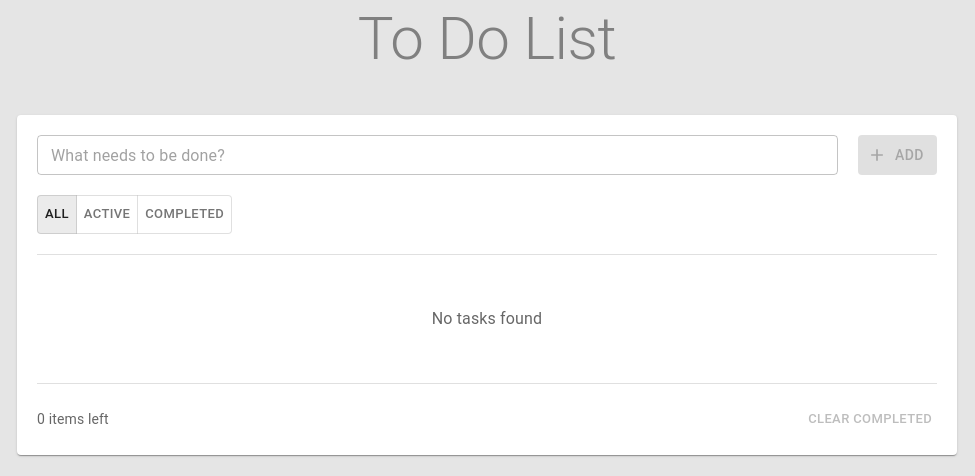
Scenario: Todo App › should add a new todo
Type "New todo item" into the field with test id "todo-input" at point(438, 155), box [37, 135, 838, 175]
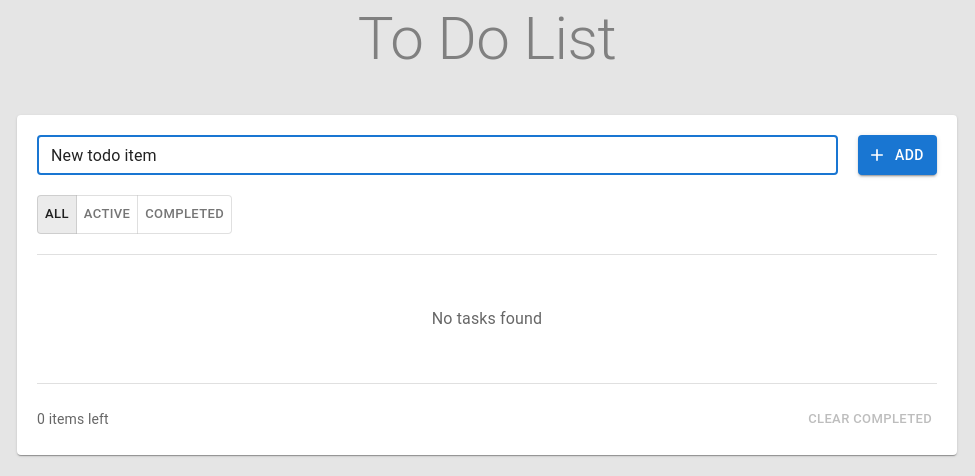
Press Enter
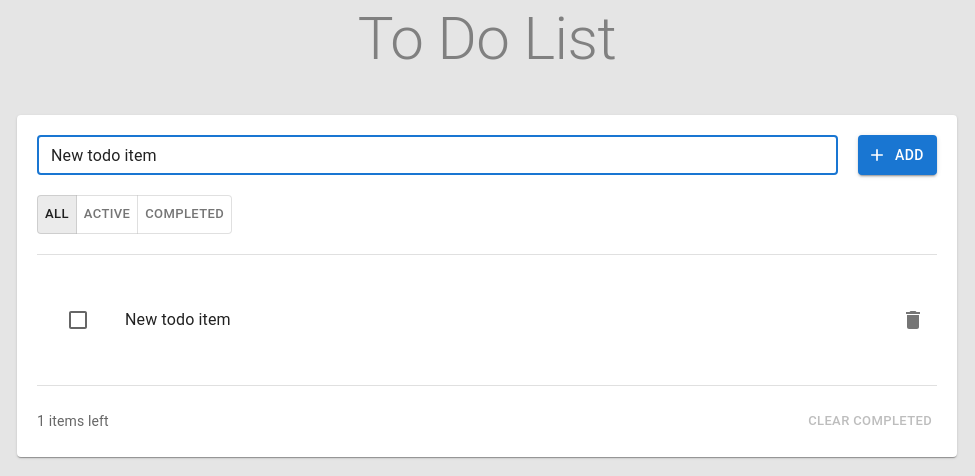
Now the text "New todo item" is shown, box [125, 310, 231, 329]
